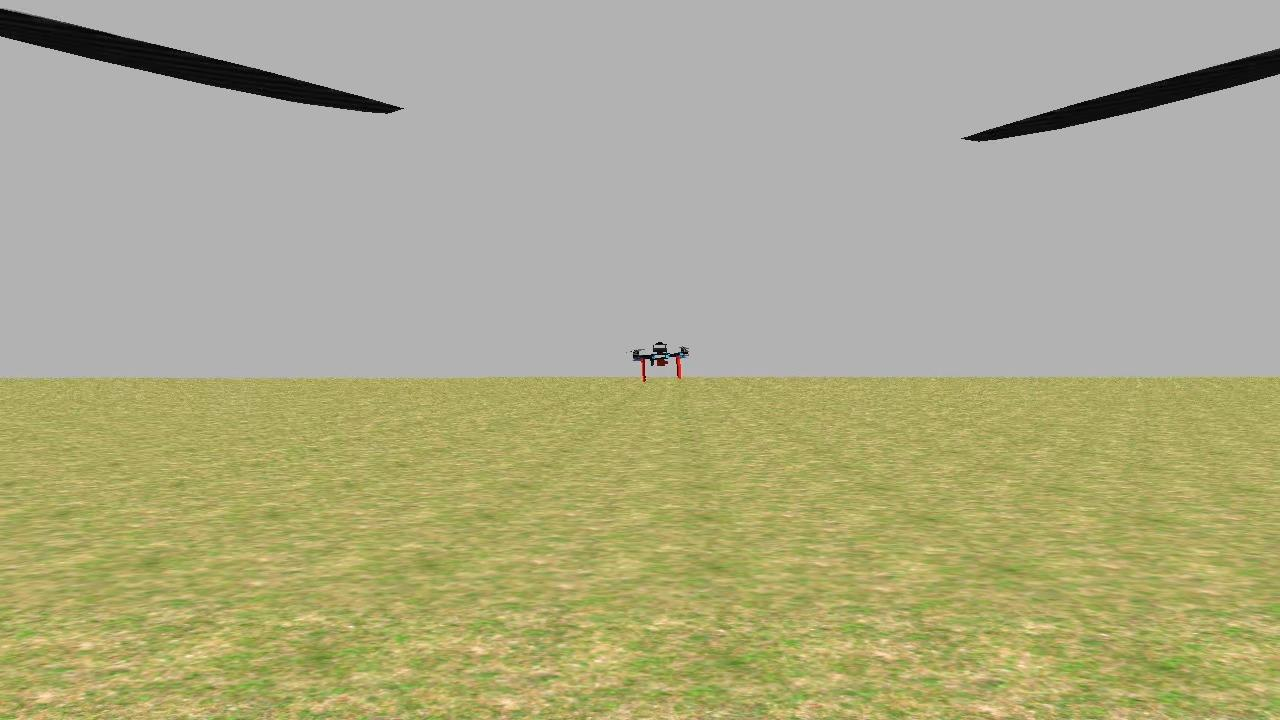UAV: (621, 323, 709, 398)
